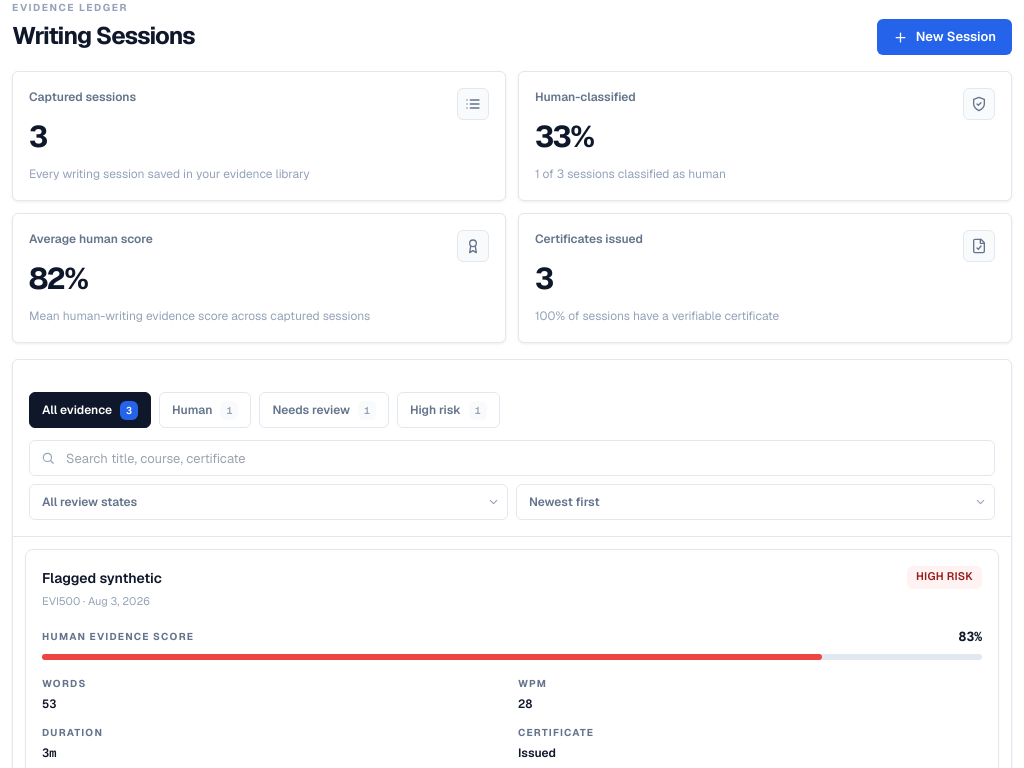
Scenario: SessionsPage final operational closure › executes every classification and review filter and restores the complete ledger
expect the text "Captured sessions" is shown: met, box [29,88,136,106]
Click the button "Needs review 1" at [324, 410], box [259,392,389,428]
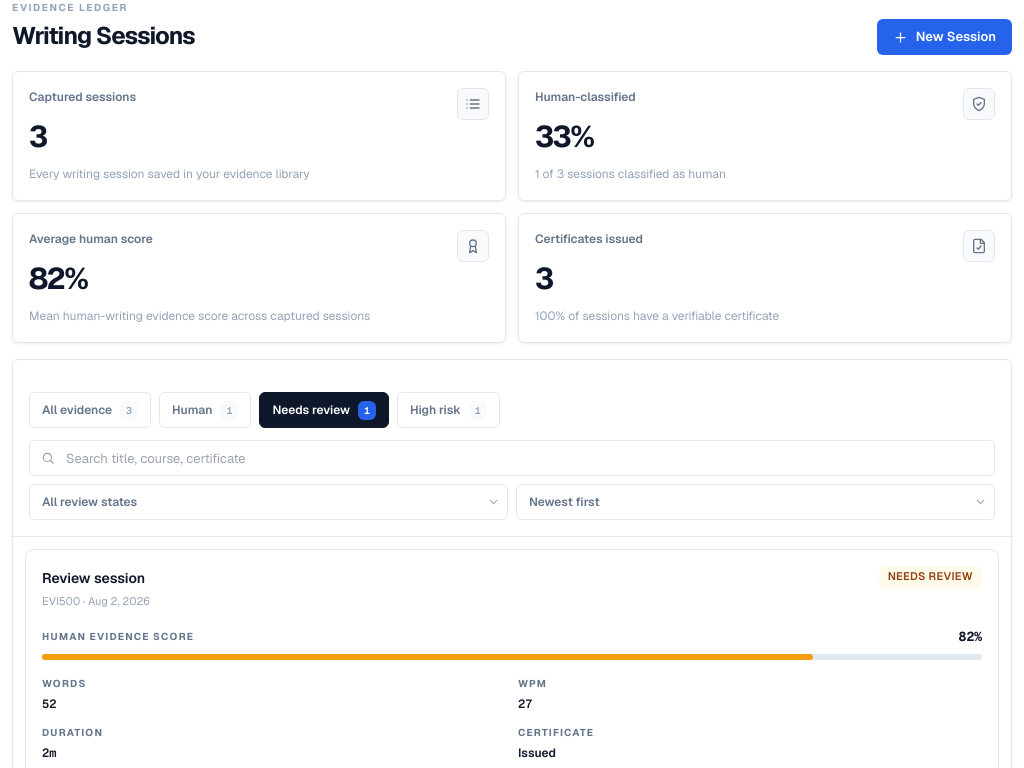
expect the link "Review session" is shown: met, box [42,570,145,588]
Click the button "High risk 1" at [448, 410], box [397,392,500,428]
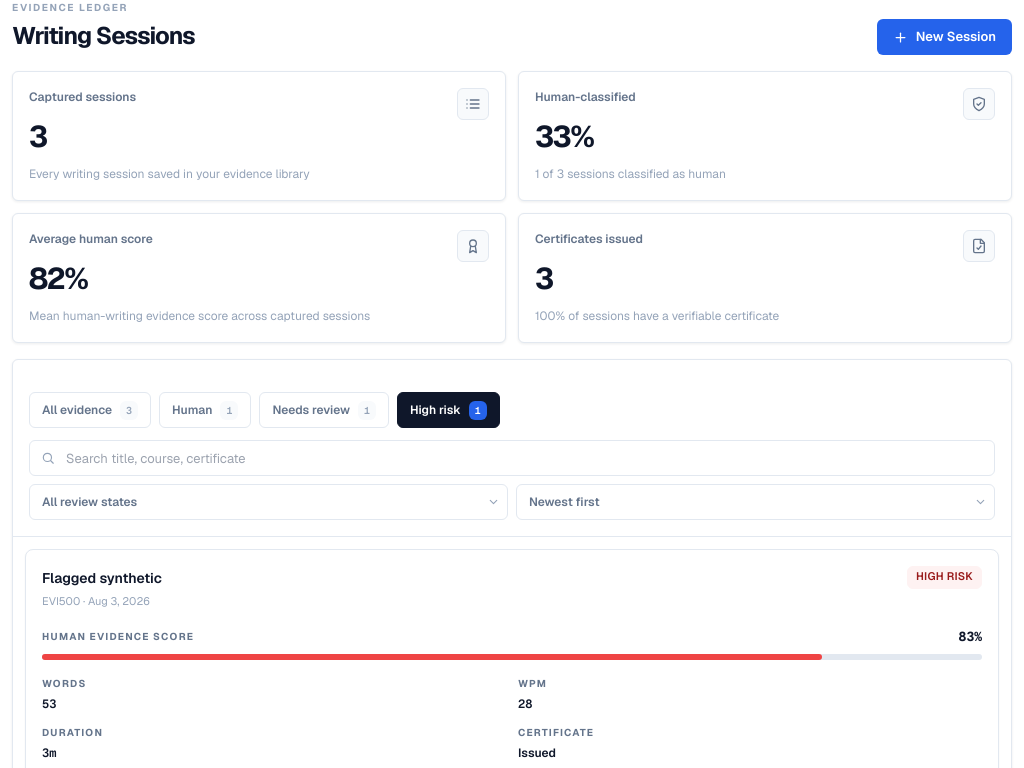
expect the link "Flagged synthetic" is shown: met, box [42,570,162,588]
Click the button "Human 1" at [205, 410], box [159,392,251,428]
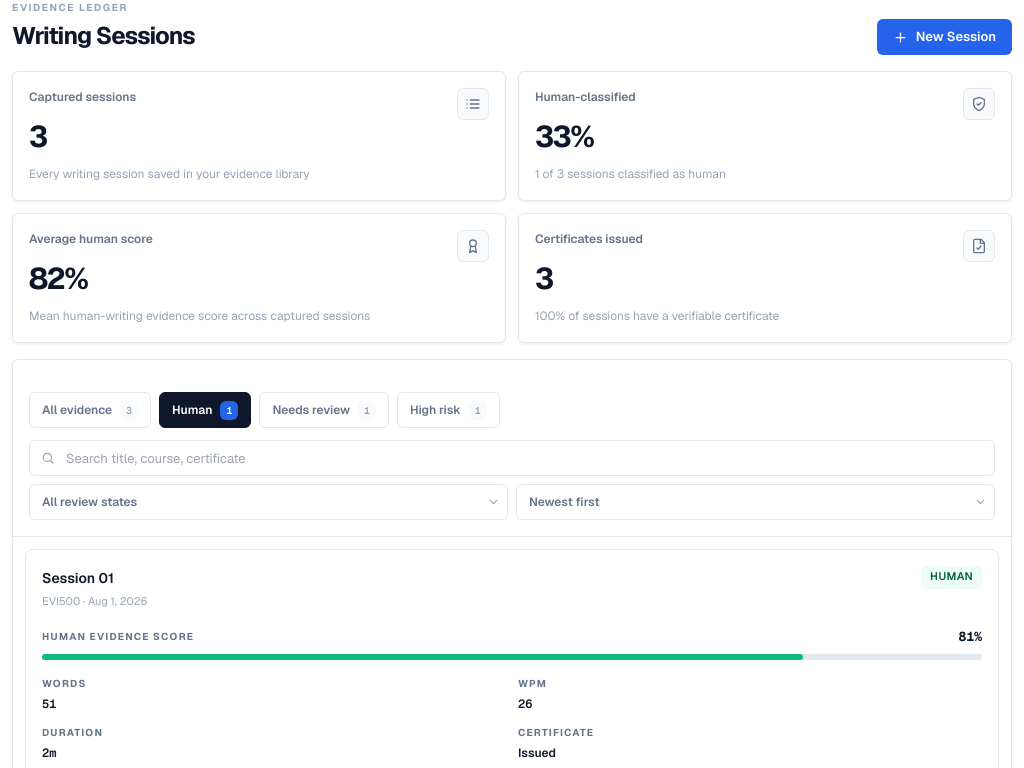
expect the link "Session 01" is shown: met, box [42,570,114,588]
Click the button "All evidence 3" at [90, 410], box [29,392,151,428]
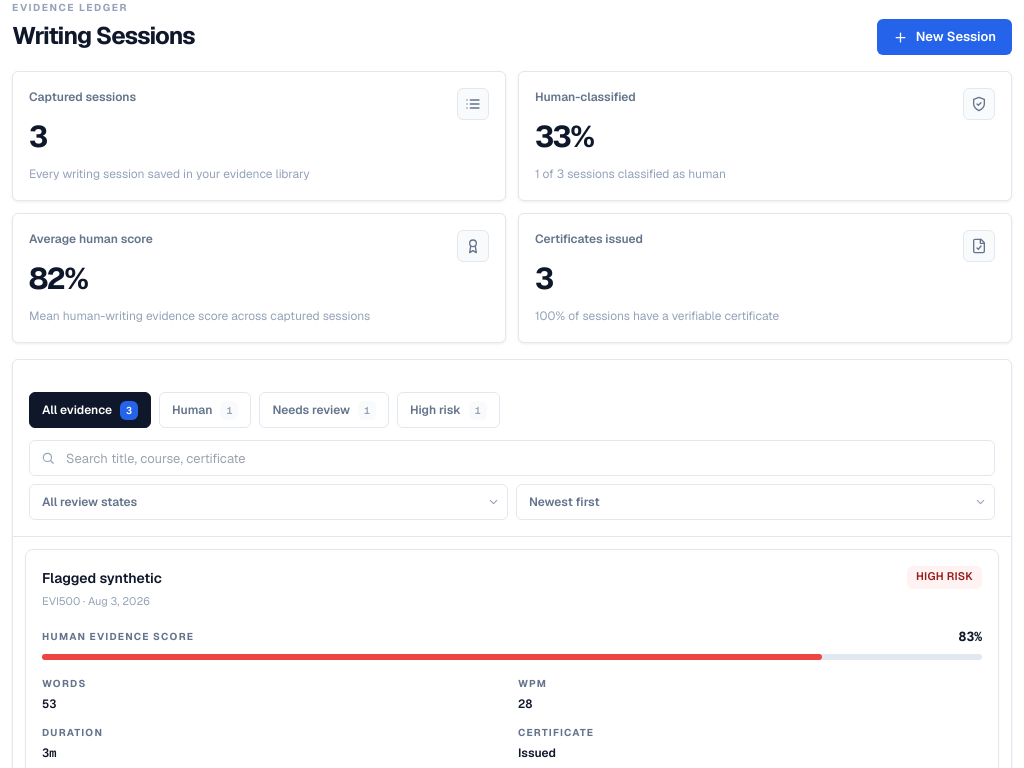
Select "Flagged" in the 1st dropdown at [268, 502], box [29,484,508,520]
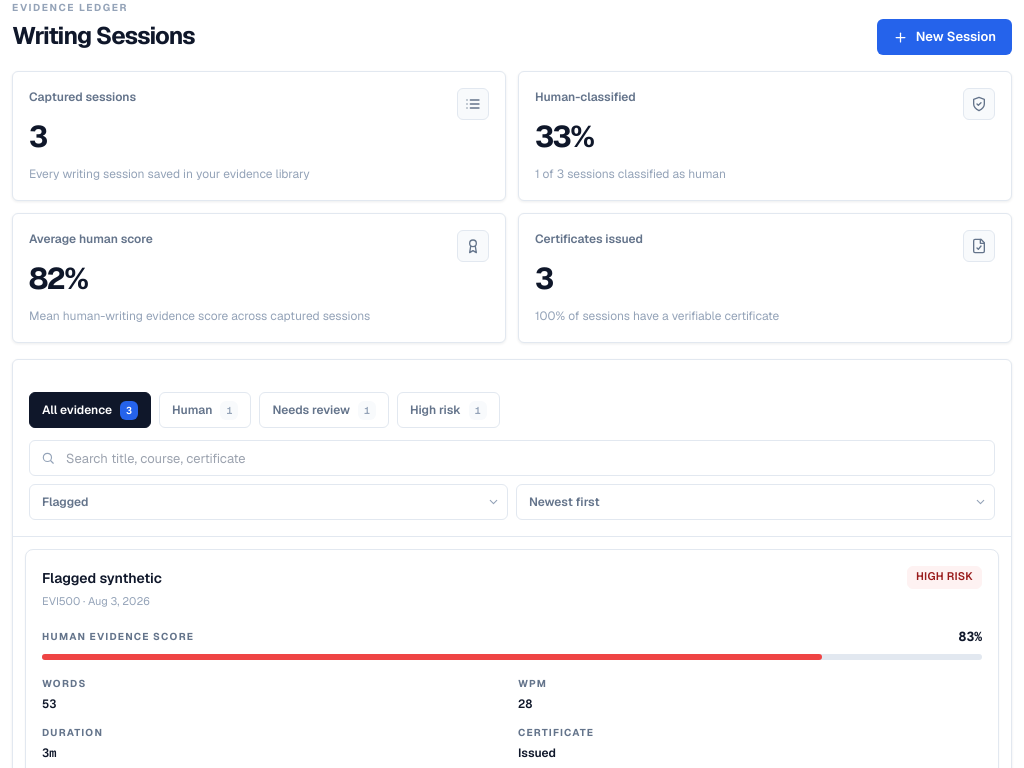
expect the link "Flagged synthetic" is shown: met, box [42,570,162,588]
Select "All review states" in the 1st dropdown at [268, 502], box [29,484,508,520]
(page scrolled)
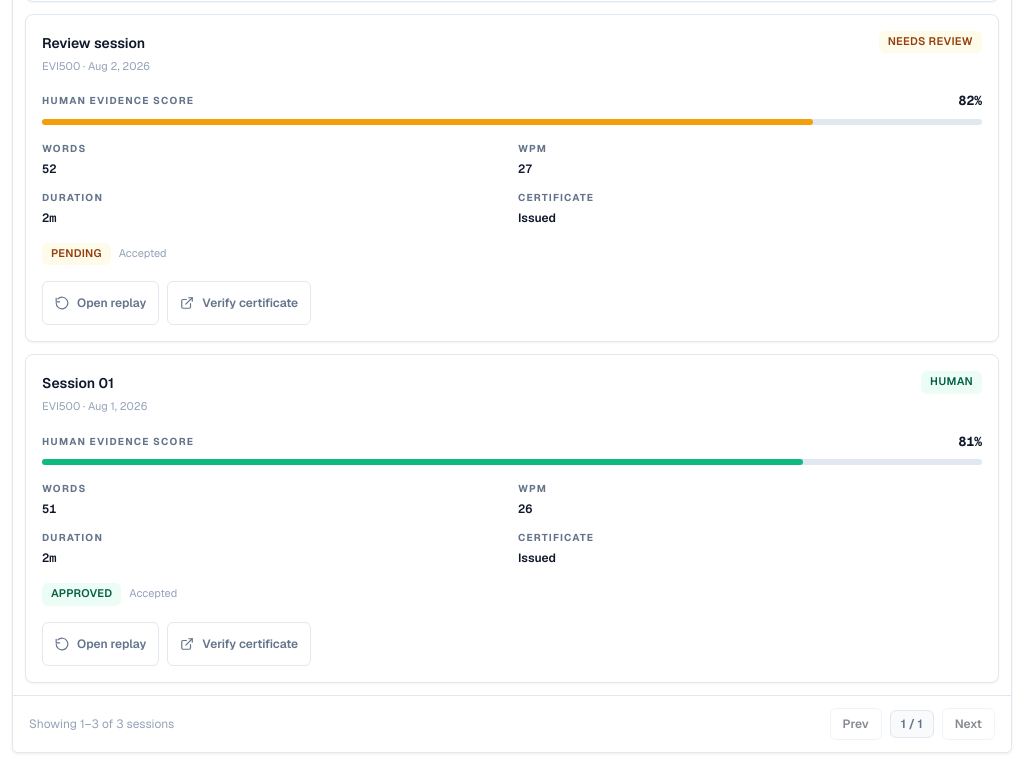
expect the link "Session 01" is shown: met, box [42,375,114,393]
